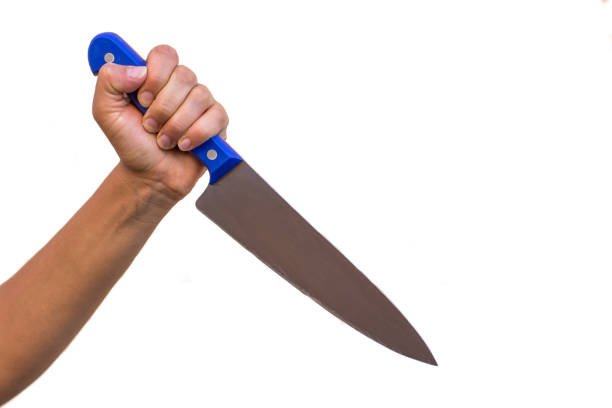knife: (86, 28, 440, 367)
